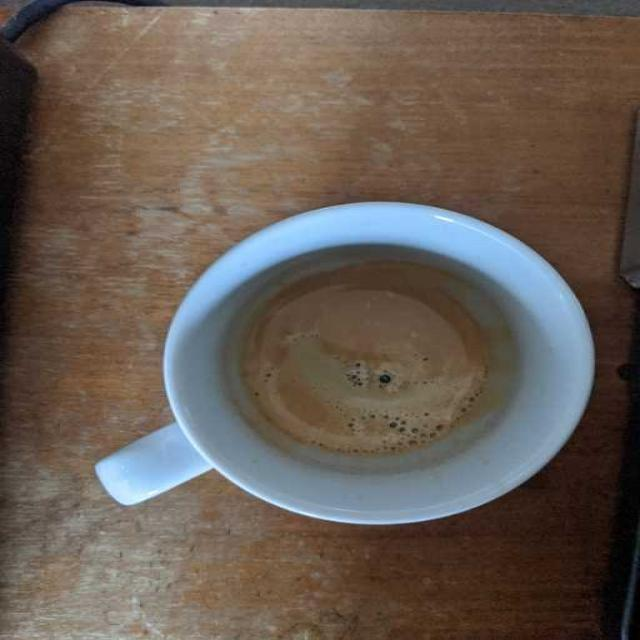coffee: (237, 268, 491, 457)
